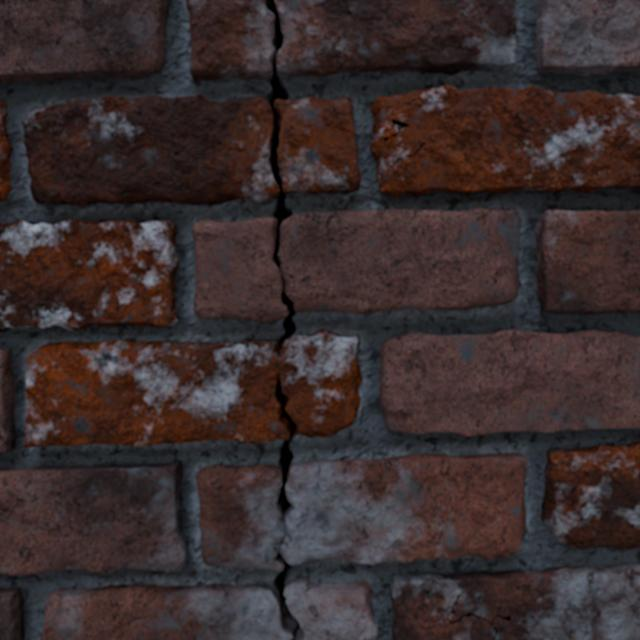broken_brick: (25, 329, 362, 447), (196, 453, 526, 570), (22, 94, 278, 205), (279, 209, 521, 314), (275, 0, 517, 76), (41, 584, 290, 639), (192, 217, 288, 322), (275, 97, 360, 194), (186, 0, 274, 80), (284, 578, 377, 639)
crack: (370, 85, 639, 196), (379, 329, 639, 436), (0, 461, 188, 575), (0, 219, 178, 331), (390, 564, 639, 639), (0, 0, 168, 85), (264, 0, 295, 365), (535, 210, 639, 314), (541, 442, 639, 550), (534, 0, 639, 76), (274, 374, 298, 528), (271, 552, 304, 639), (0, 349, 15, 452), (0, 588, 24, 639), (0, 101, 12, 200), (416, 57, 423, 65), (279, 63, 302, 64), (354, 62, 369, 63), (395, 61, 408, 62)
